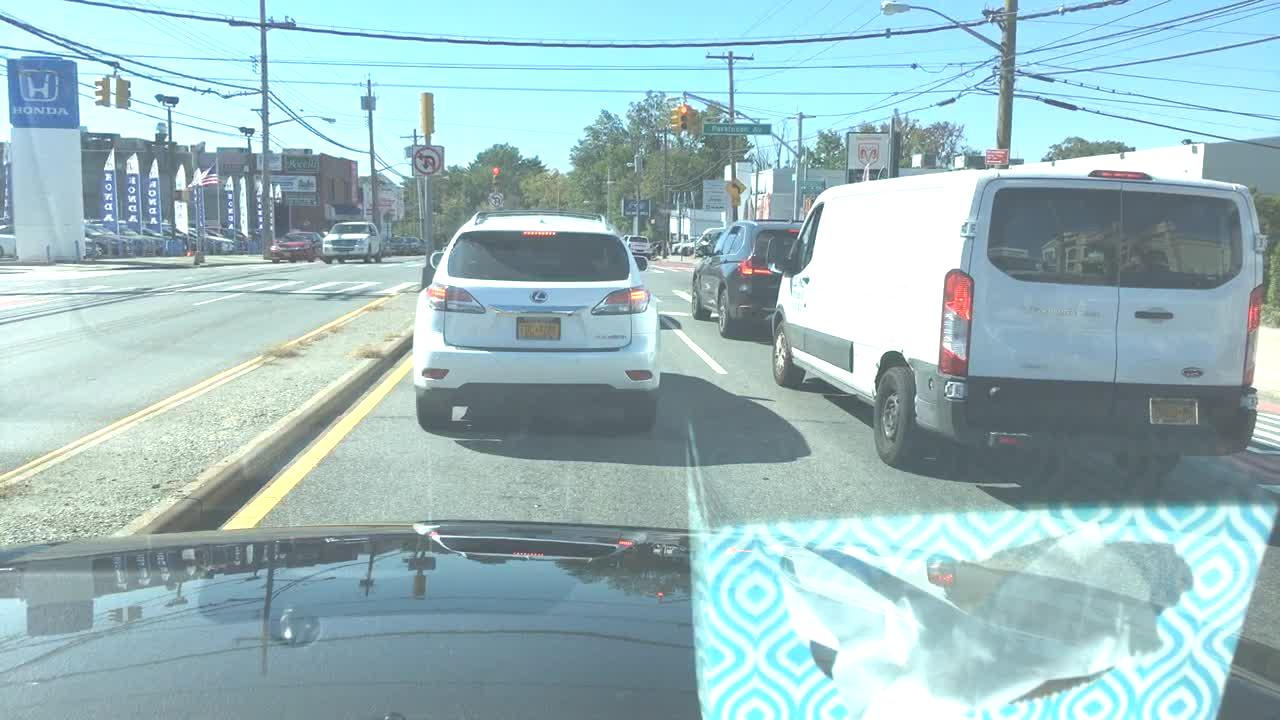lexus: (524, 278, 559, 314)
